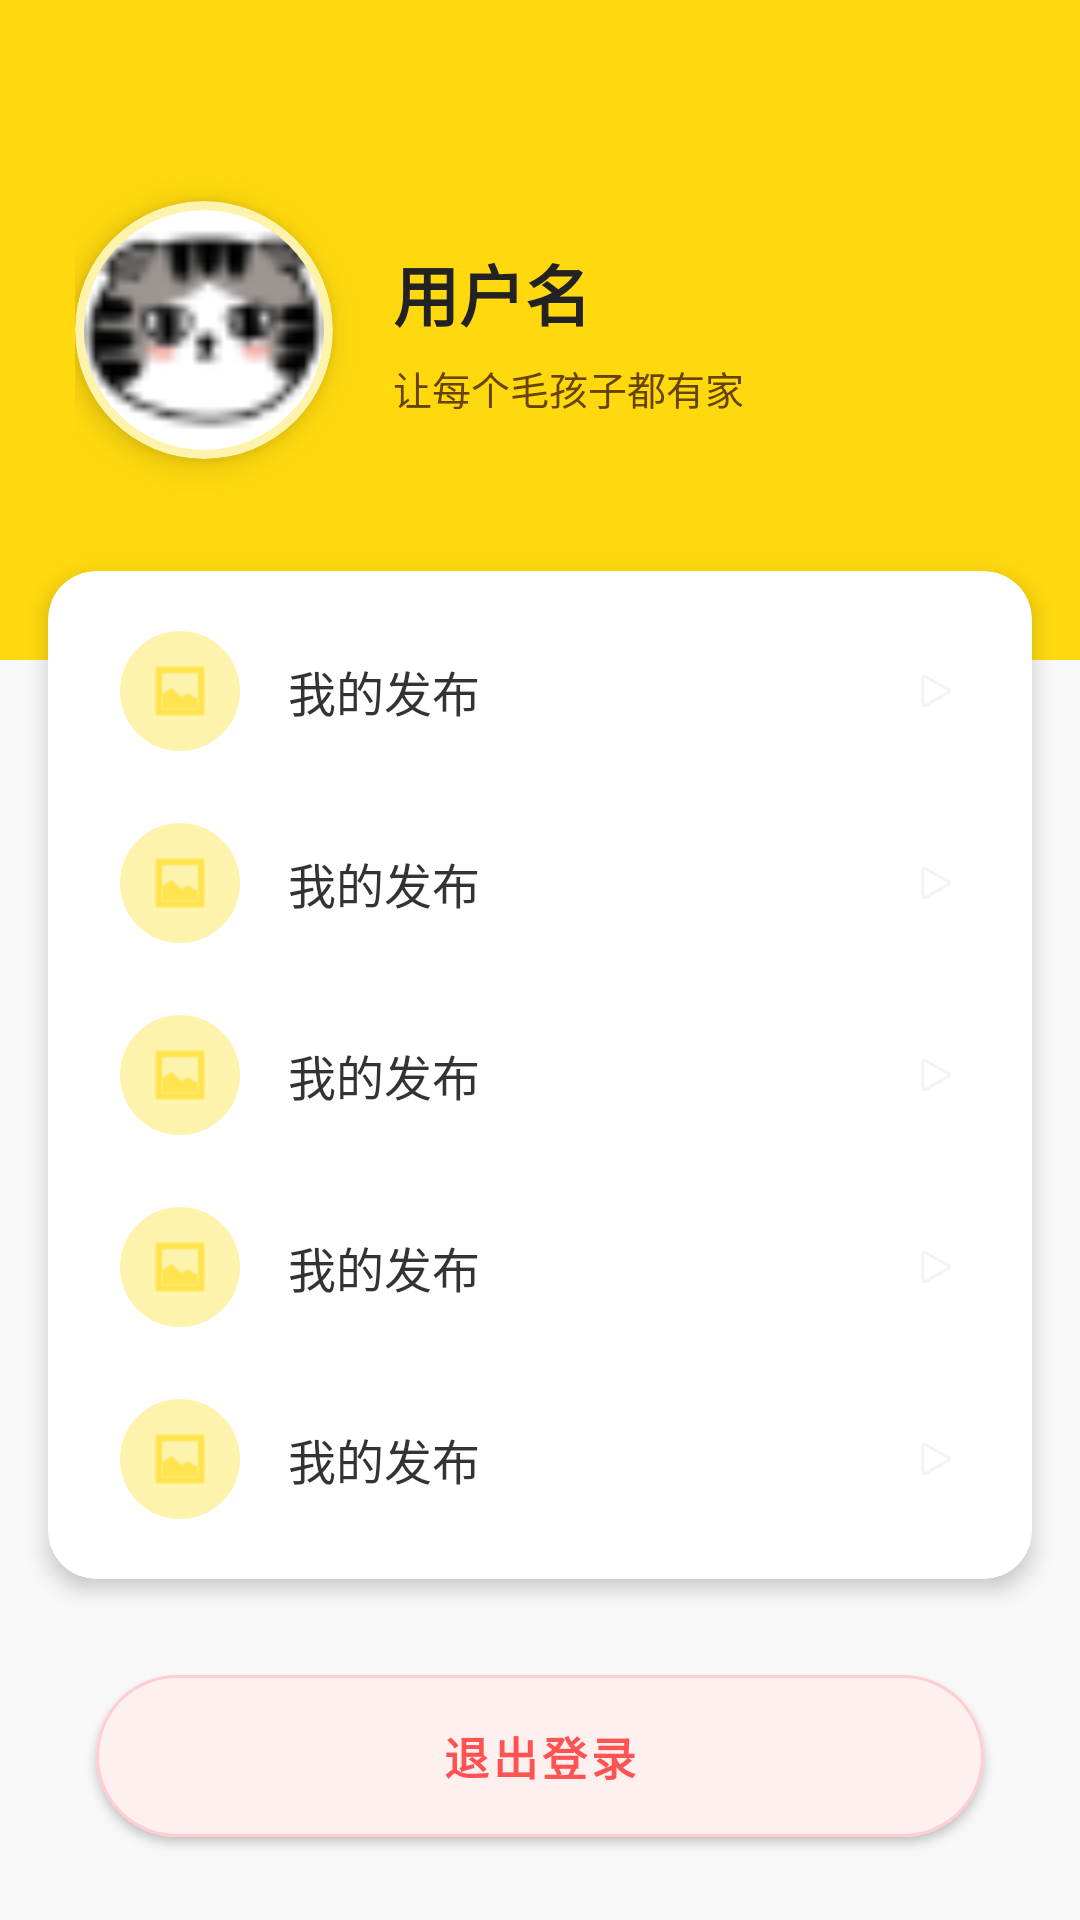

Screen size 1080×1920. Icon name, then its box in pixels as [left=x1, top=y1, right=x2, bottom=y2]:
gallery: [left=155, top=666, right=205, bottom=716], [left=155, top=858, right=205, bottom=908], [left=155, top=1050, right=205, bottom=1100], [left=155, top=1242, right=205, bottom=1292], [left=155, top=1434, right=205, bottom=1484]
